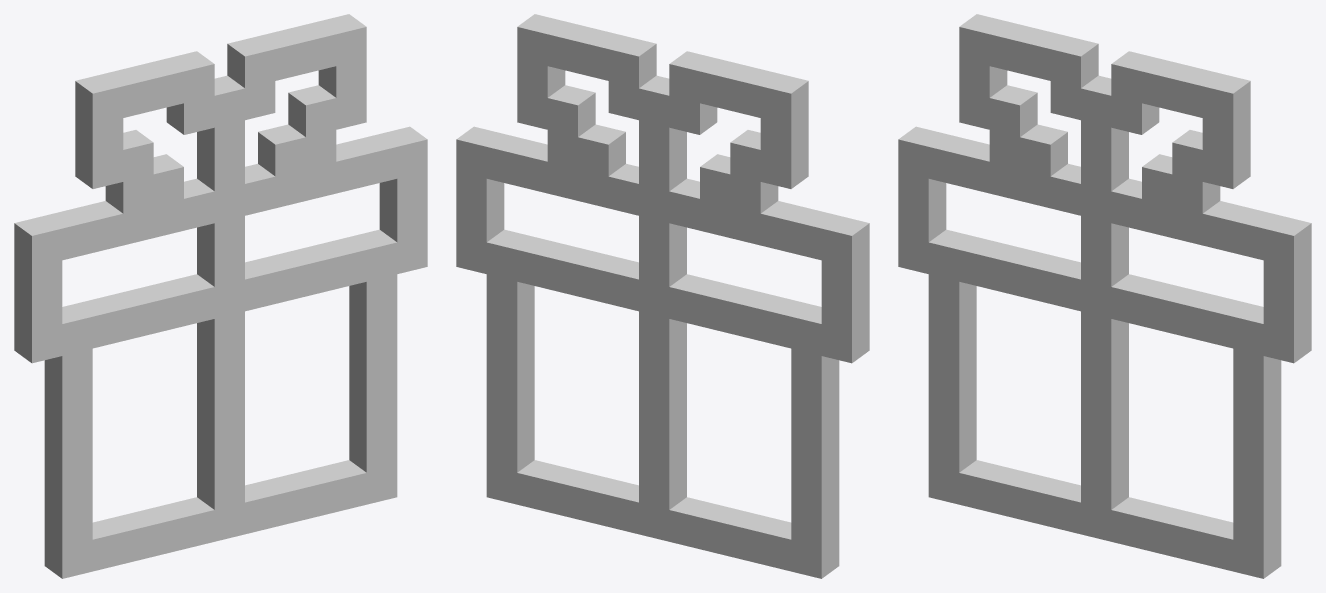
The model's file is gift.obj.
3 renders of one model, left to right at view 1: azimuth 30°, elevation 25°; view 2: azimuth 150°, elevation 25°; view 3: azimuth 330°, elevation 25°, orthographic.
Size of the model in its own units: 1.3 by 1.5 by 0.1.
Materials: 1 (1 with a texture image).
